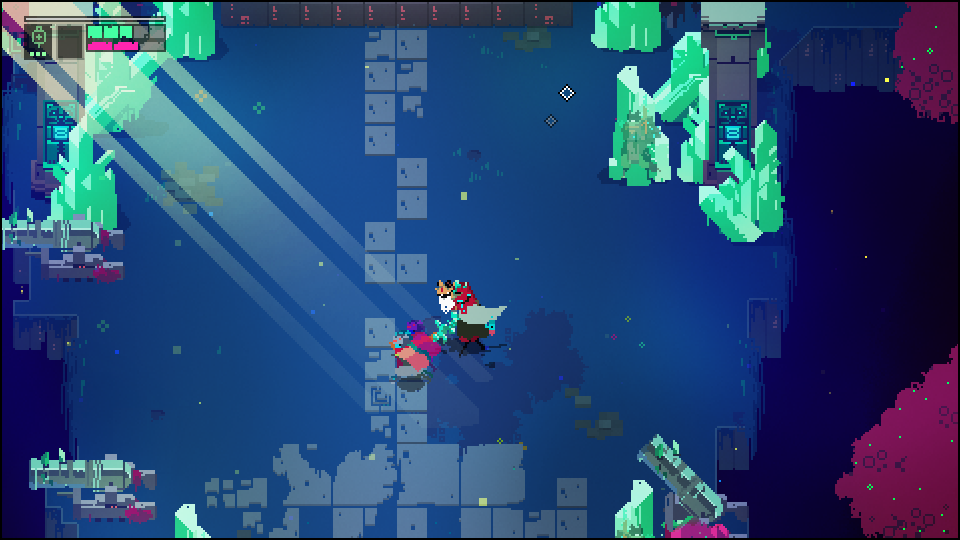hanged_man: (427, 274, 507, 353)
player: (391, 335, 431, 380)
